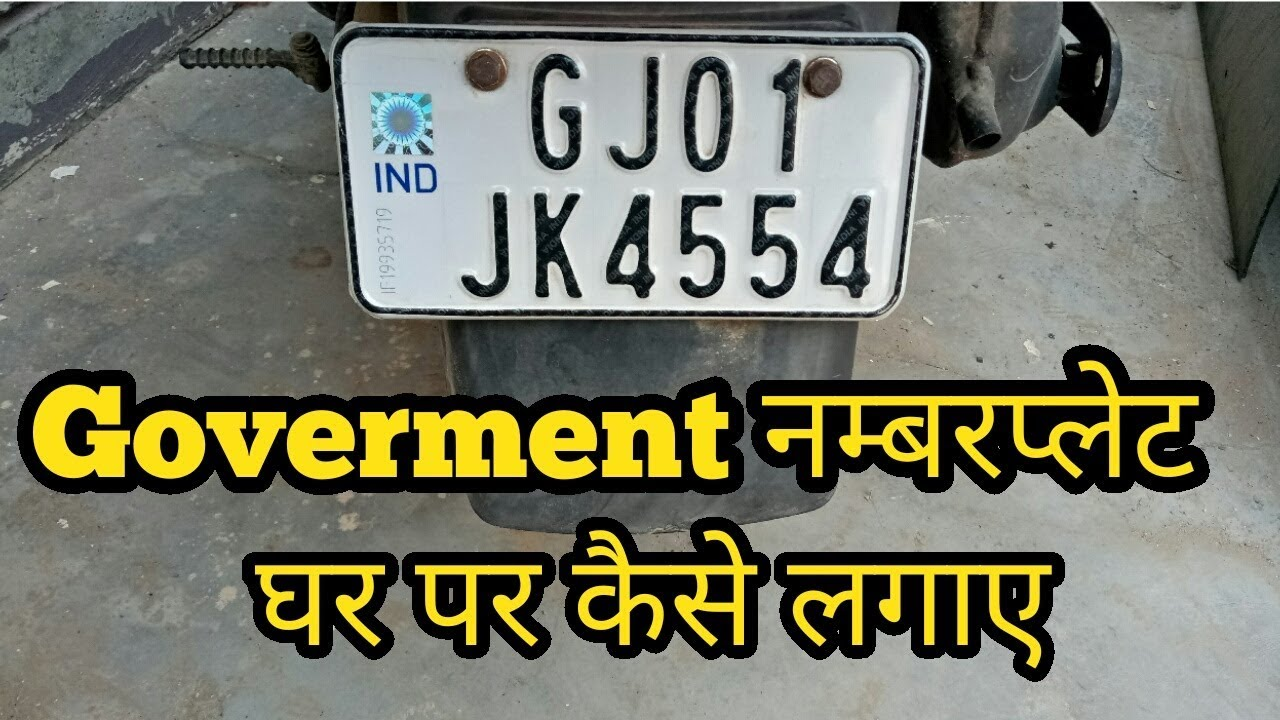doublelinenumberplate: (324, 22, 925, 323)
